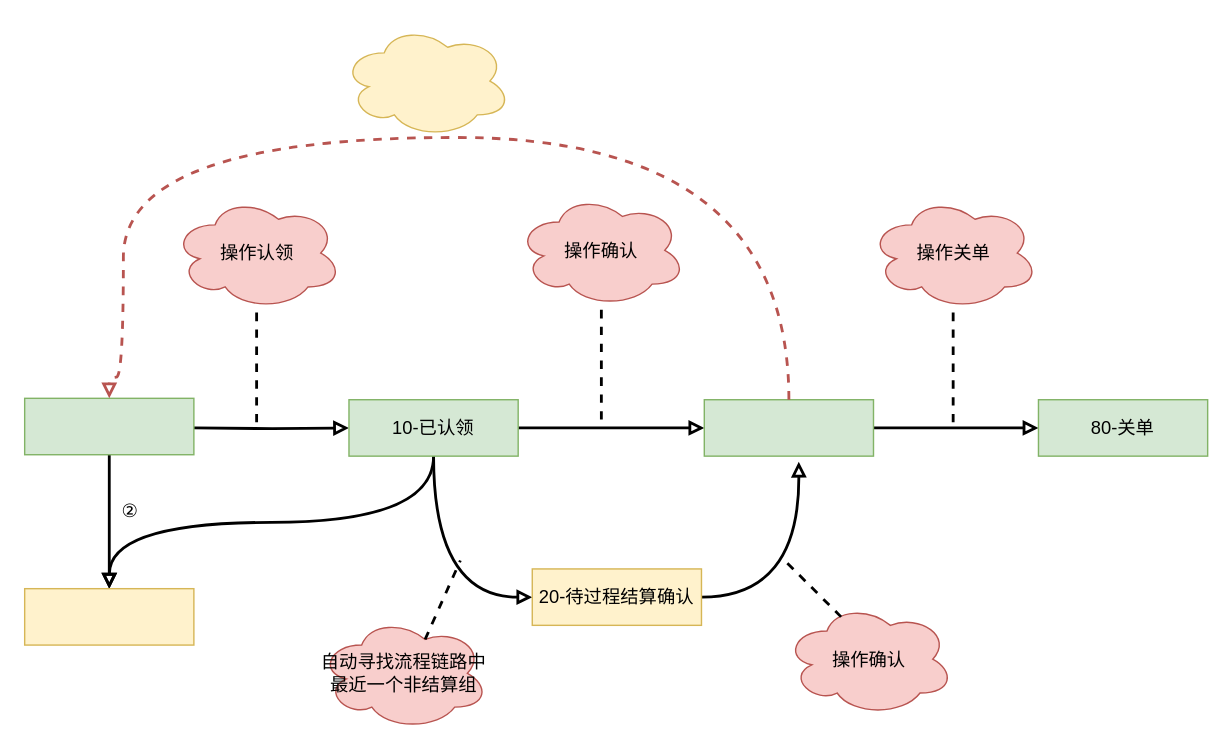
Some shapes in this 1232 by 754 pixel diagram are drawn without their labels. The shapes that lost their labels are listed below. From the top down, each one's centre as x and y in pixels, then its label:
the point at 426,80: 操作转派
the point at 108,426: 0-待认领
the point at 788,427: 30-待发起人确认
the point at 108,616: 90-作废
